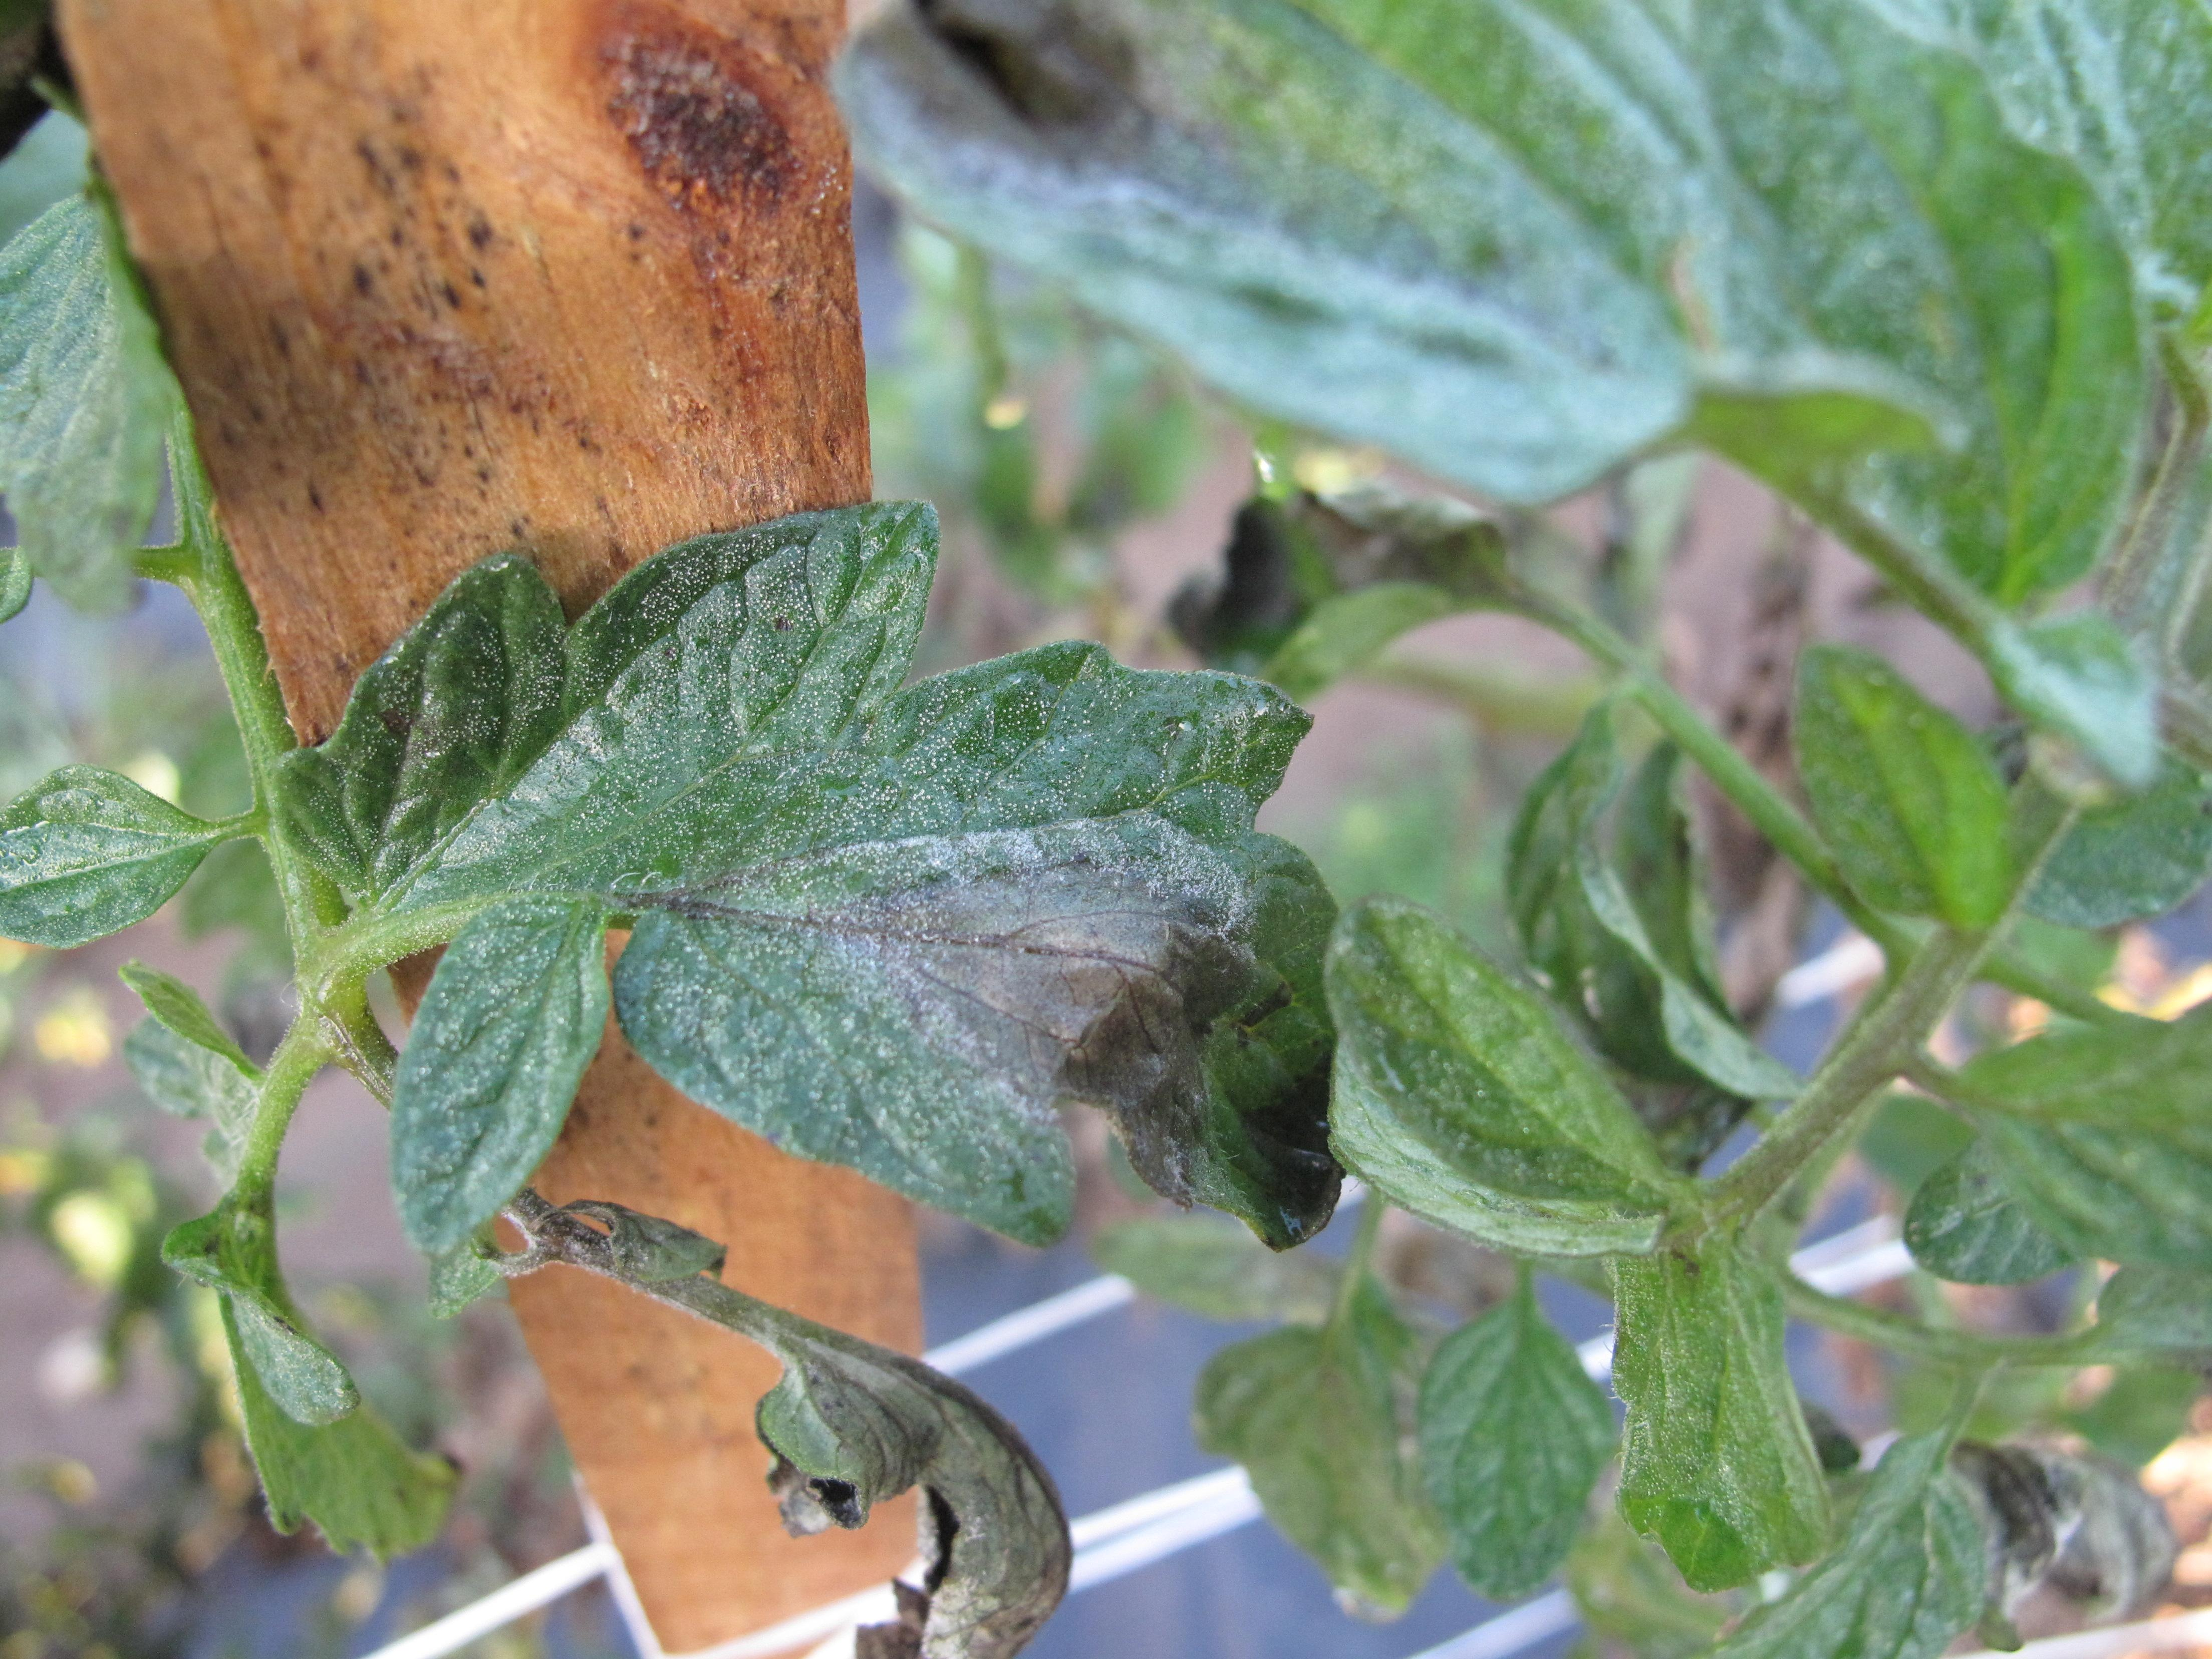Tomato leaf mosaic virus: (197, 483, 1487, 1352)
